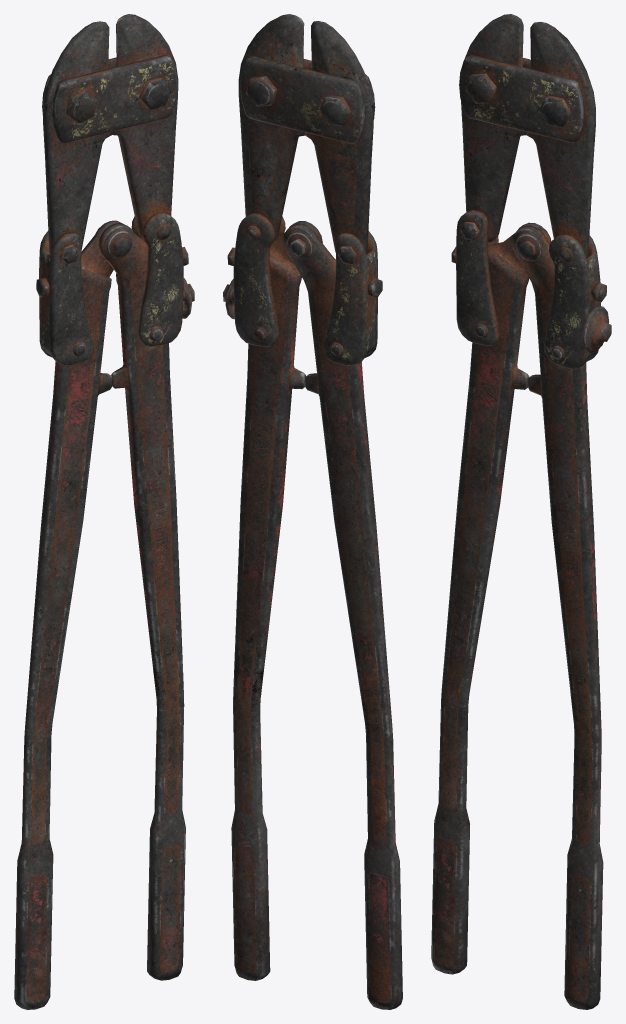
The model's file is bolt_cutters.glb.
3 views of the same model, side by side, from view 1: azimuth 30°, elevation 25°; view 2: azimuth 150°, elevation 25°; view 3: azimuth 330°, elevation 25° (orthographic).
Parts seen in each view (by area): view 1: bolt_cutters_01_0; view 2: bolt_cutters_01_0; view 3: bolt_cutters_01_0.
Boxes of the visible parts, x1=… form: bolt_cutters_01_0: x1=14, y1=14, x2=194, y2=1009; bolt_cutters_01_0: x1=223, y1=14, x2=402, y2=1009; bolt_cutters_01_0: x1=431, y1=14, x2=611, y2=1009.
Size of the model in its own units: 0.151 by 0.8026 by 0.036.
1 material, 1 textured.
